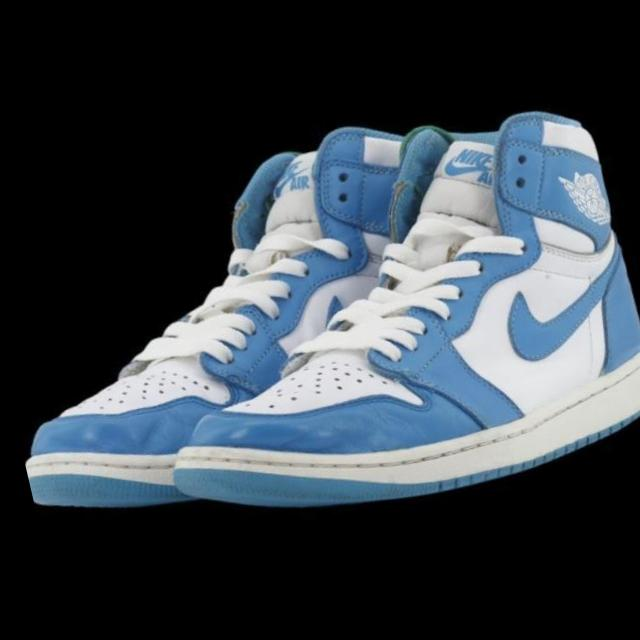nike_original_jordan: (102, 64, 640, 573), (0, 84, 498, 557)
